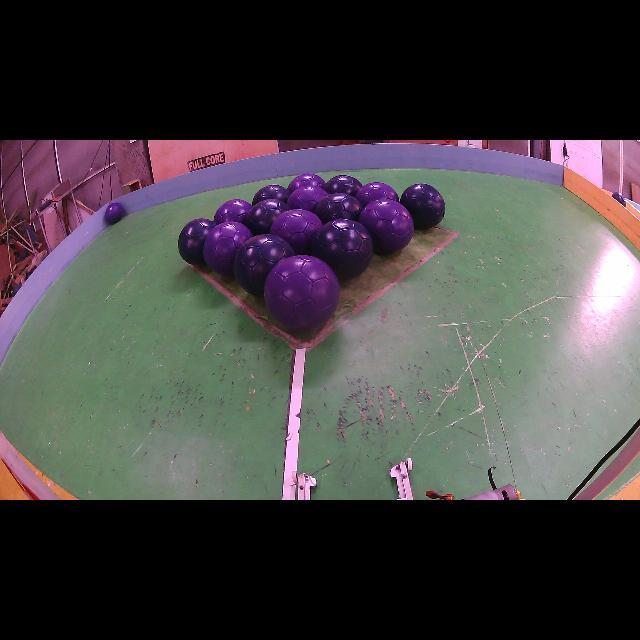B: (311, 219, 374, 279), (234, 235, 295, 296), (400, 184, 445, 229), (178, 219, 216, 265), (245, 199, 290, 235), (315, 192, 362, 223), (324, 175, 362, 196), (252, 185, 290, 206)
P: (264, 255, 340, 330), (359, 199, 414, 254), (202, 221, 252, 275), (270, 209, 322, 255), (355, 181, 400, 207), (288, 185, 329, 212), (214, 199, 252, 225), (288, 174, 325, 194), (105, 202, 125, 224)
